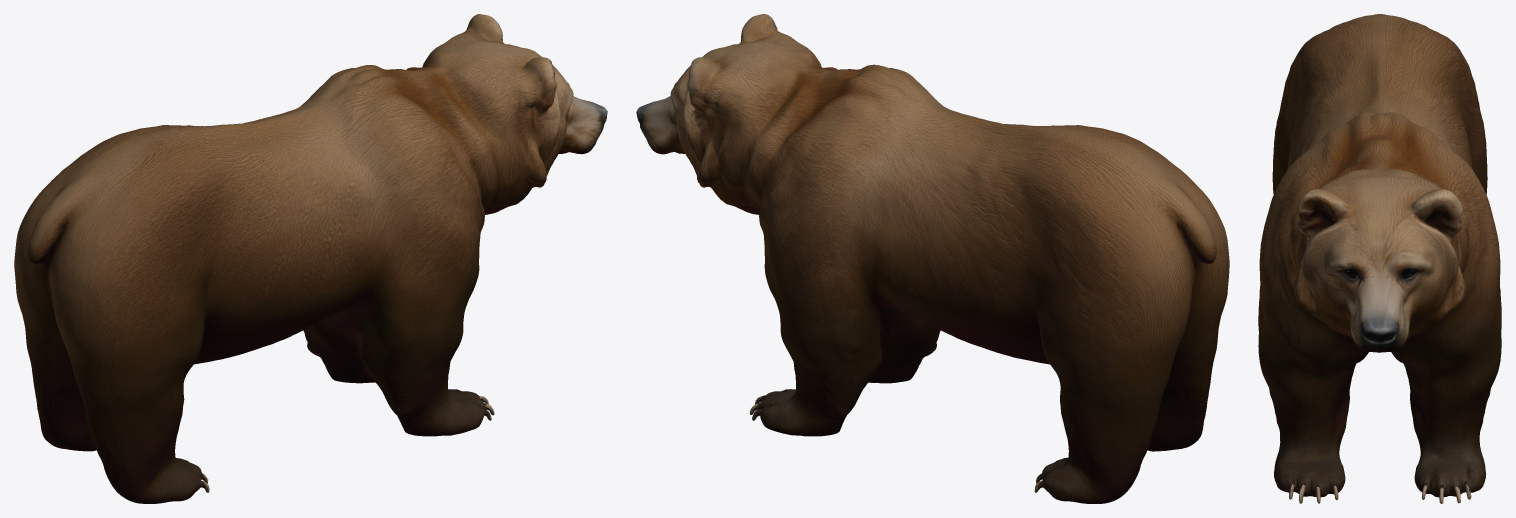
Rendered from bear-model.glb.
The picture shows the model from 3 angles, left to right: view 1: azimuth 30°, elevation 25°; view 2: azimuth 150°, elevation 25°; view 3: azimuth 270°, elevation 25°; orthographic projection. The views are drawn at different scales.
Parts seen in each view (by area): view 1: tripo_node_72af4cdf-9881-40ab-a39d-6e73363767e8; view 2: tripo_node_72af4cdf-9881-40ab-a39d-6e73363767e8; view 3: tripo_node_72af4cdf-9881-40ab-a39d-6e73363767e8.
Boxes of the visible parts, bbox=[...] form: tripo_node_72af4cdf-9881-40ab-a39d-6e73363767e8: bbox=[14, 14, 607, 503]; tripo_node_72af4cdf-9881-40ab-a39d-6e73363767e8: bbox=[636, 14, 1229, 503]; tripo_node_72af4cdf-9881-40ab-a39d-6e73363767e8: bbox=[1258, 14, 1501, 503].
Bounding box in the file's own units: 1 × 0.5581 × 0.3579.
1 material, 1 textured.
